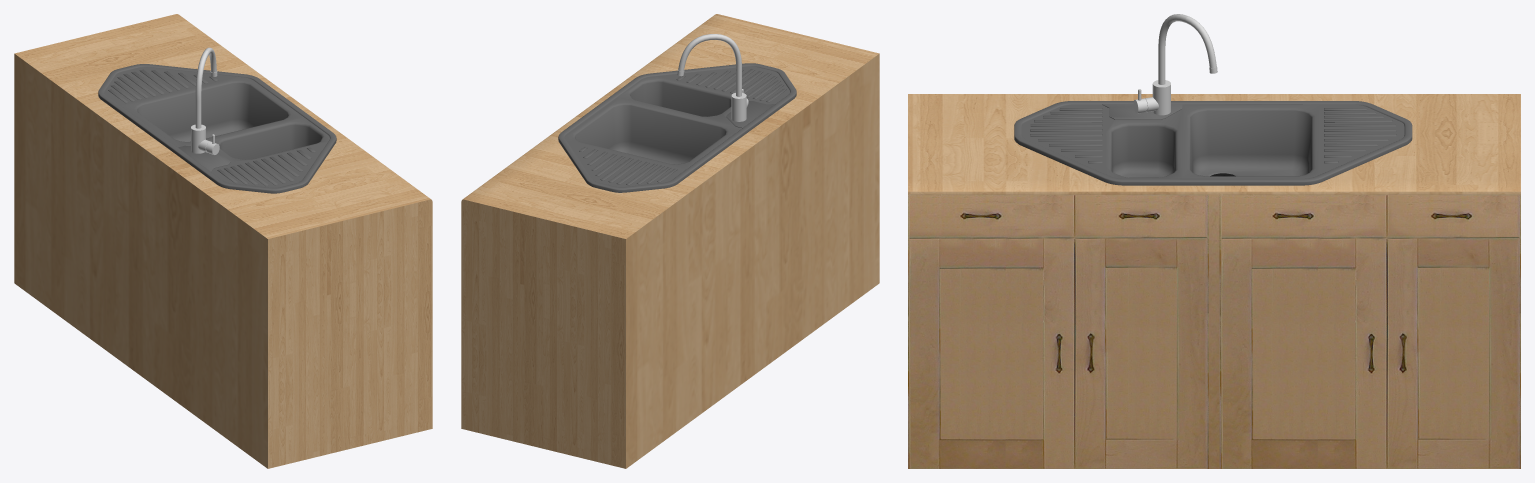
File: KitchenCabinet_Sink.FBX
3 renders of one model, left to right at view 1: azimuth 30°, elevation 25°; view 2: azimuth 150°, elevation 25°; view 3: azimuth 270°, elevation 25°, orthographic. The views are drawn at different scales.
Visible parts, largest first — view 1: Sink_Cabinet, Line01, Line03; view 2: Sink_Cabinet, Line01, Line03, ChamferCyl08; view 3: Sink_Cabinet, Line01, Line03.
Boxes of the visible parts, bbox=[...] form: Sink_Cabinet: bbox=[14, 14, 432, 468]; Line01: bbox=[98, 64, 336, 193]; Line03: bbox=[195, 47, 217, 128]; Sink_Cabinet: bbox=[461, 14, 879, 468]; Line01: bbox=[558, 63, 796, 192]; Line03: bbox=[677, 34, 741, 96]; ChamferCyl08: bbox=[731, 92, 746, 121]; Sink_Cabinet: bbox=[908, 94, 1520, 468]; Line01: bbox=[1014, 101, 1412, 185]; Line03: bbox=[1158, 14, 1217, 84].
Bounding box in the file's own units: 60 × 112 × 160.
4 materials, 1 textured.
